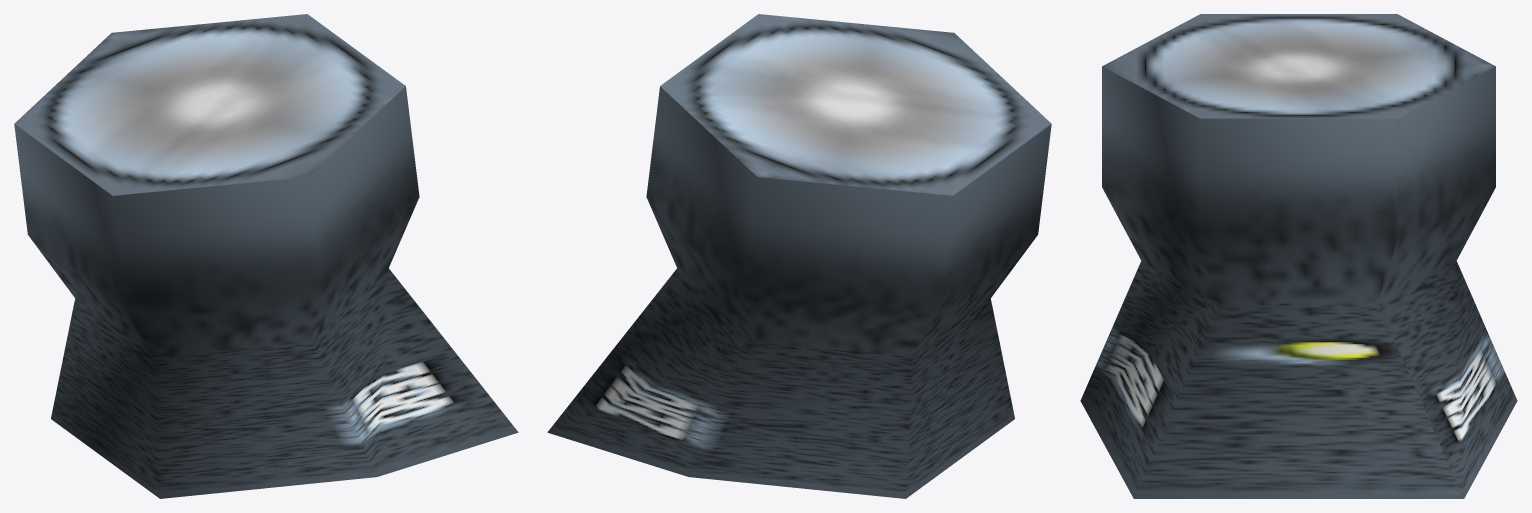
File: BF_HeadLight.FBX
3 views of the same model, side by side, from view 1: azimuth 30°, elevation 25°; view 2: azimuth 150°, elevation 25°; view 3: azimuth 270°, elevation 25° (orthographic).
Parts seen in each view (by area): view 1: HandTorch; view 2: HandTorch; view 3: HandTorch.
Part boxes in pixels (x1,y1,x2,y2): HandTorch: (14,14,518,498); HandTorch: (547,14,1051,498); HandTorch: (1080,14,1517,498).
Size of the model in its own units: 8.03 by 7.39 by 8.15.
